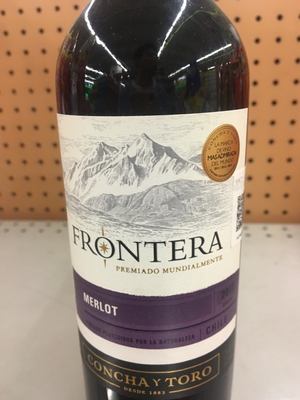frontera merlot: (49, 16, 260, 400)
